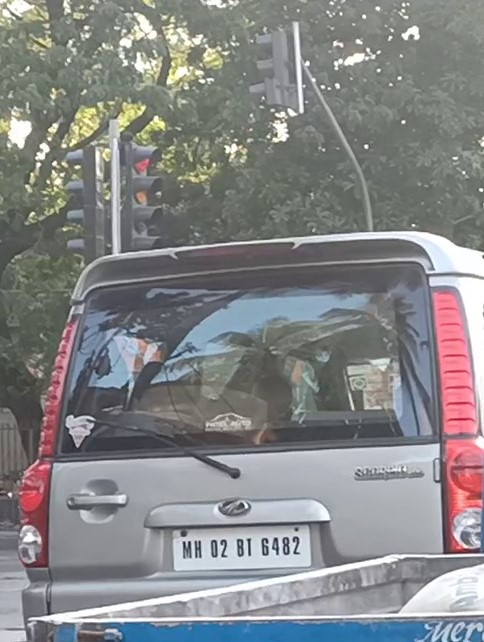MH02BT6482: (169, 523, 313, 569)
